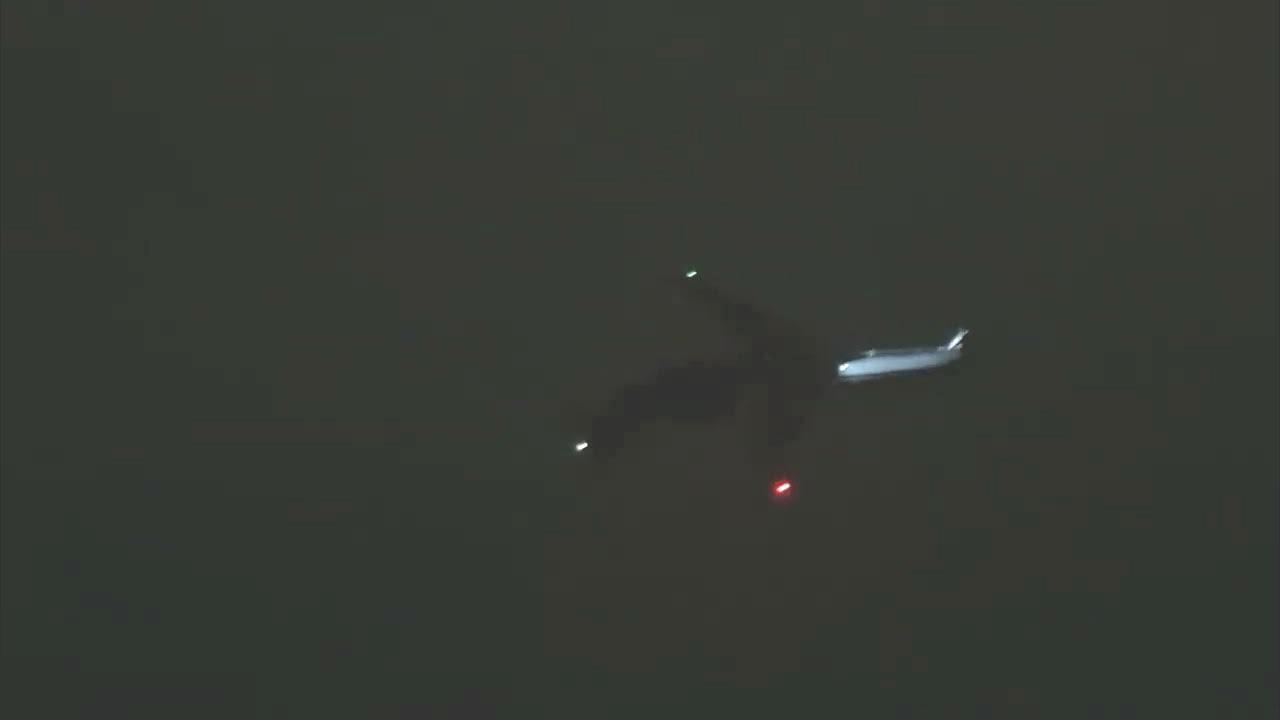Plane: (500, 266, 1010, 523)
